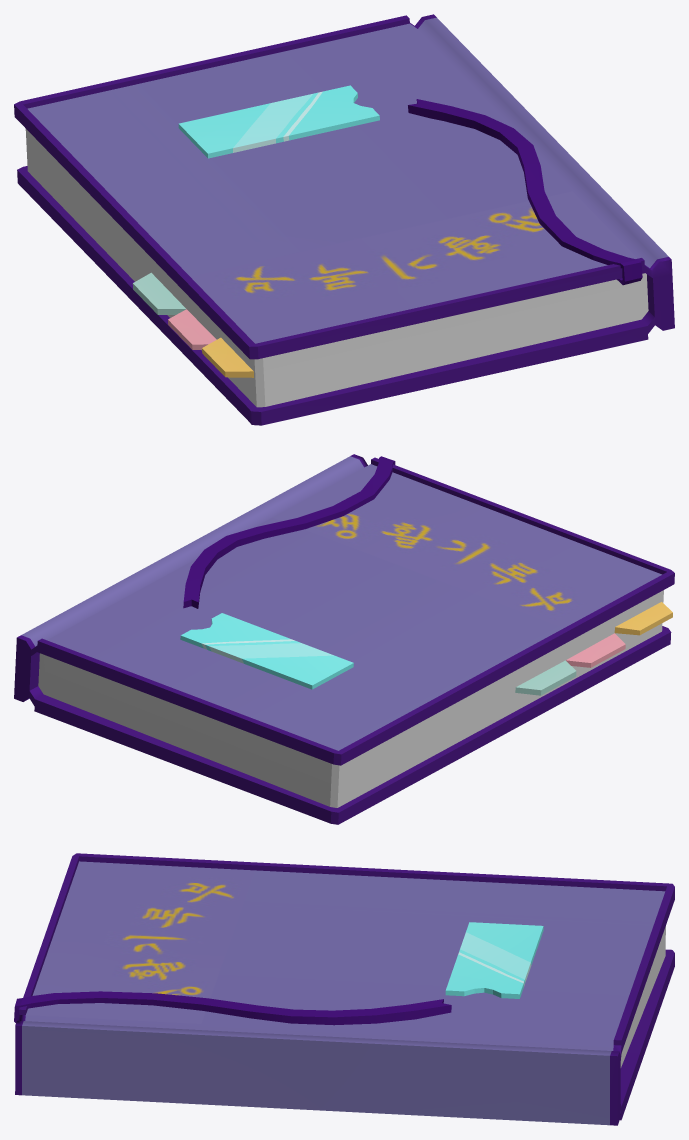
Rendered from 1_book_0001.fbx.
The picture shows the model from 3 angles, top to bottom: view 1: azimuth 30°, elevation 25°; view 2: azimuth 150°, elevation 25°; view 3: azimuth 270°, elevation 25°; orthographic projection. The views are drawn at different scales.
Parts seen in each view (by area): view 1: bag_0002_forMap; view 2: bag_0002_forMap; view 3: bag_0002_forMap.
Part boxes in pixels (bbox=[...]): bag_0002_forMap: bbox=[14, 14, 674, 425]; bag_0002_forMap: bbox=[14, 454, 674, 824]; bag_0002_forMap: bbox=[14, 853, 674, 1125].
Bounding box in the file's own units: 19.25 × 4.09 × 23.69.
Materials: 1 (1 with a texture image).
